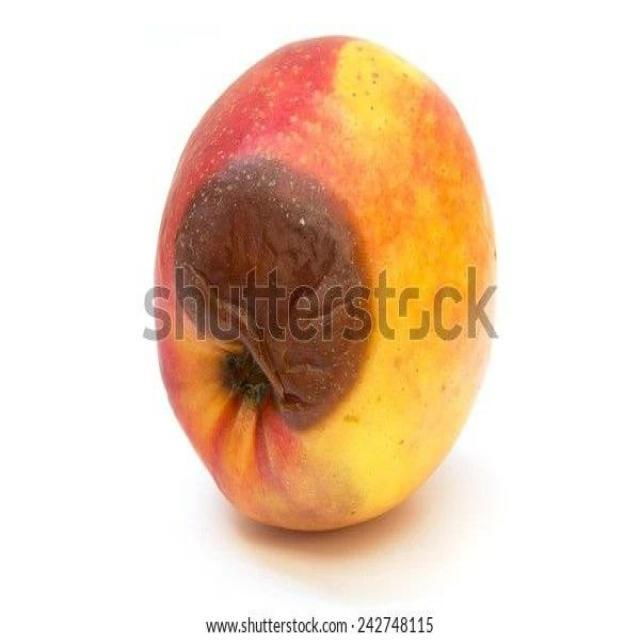Rotten: (154, 55, 494, 537)
